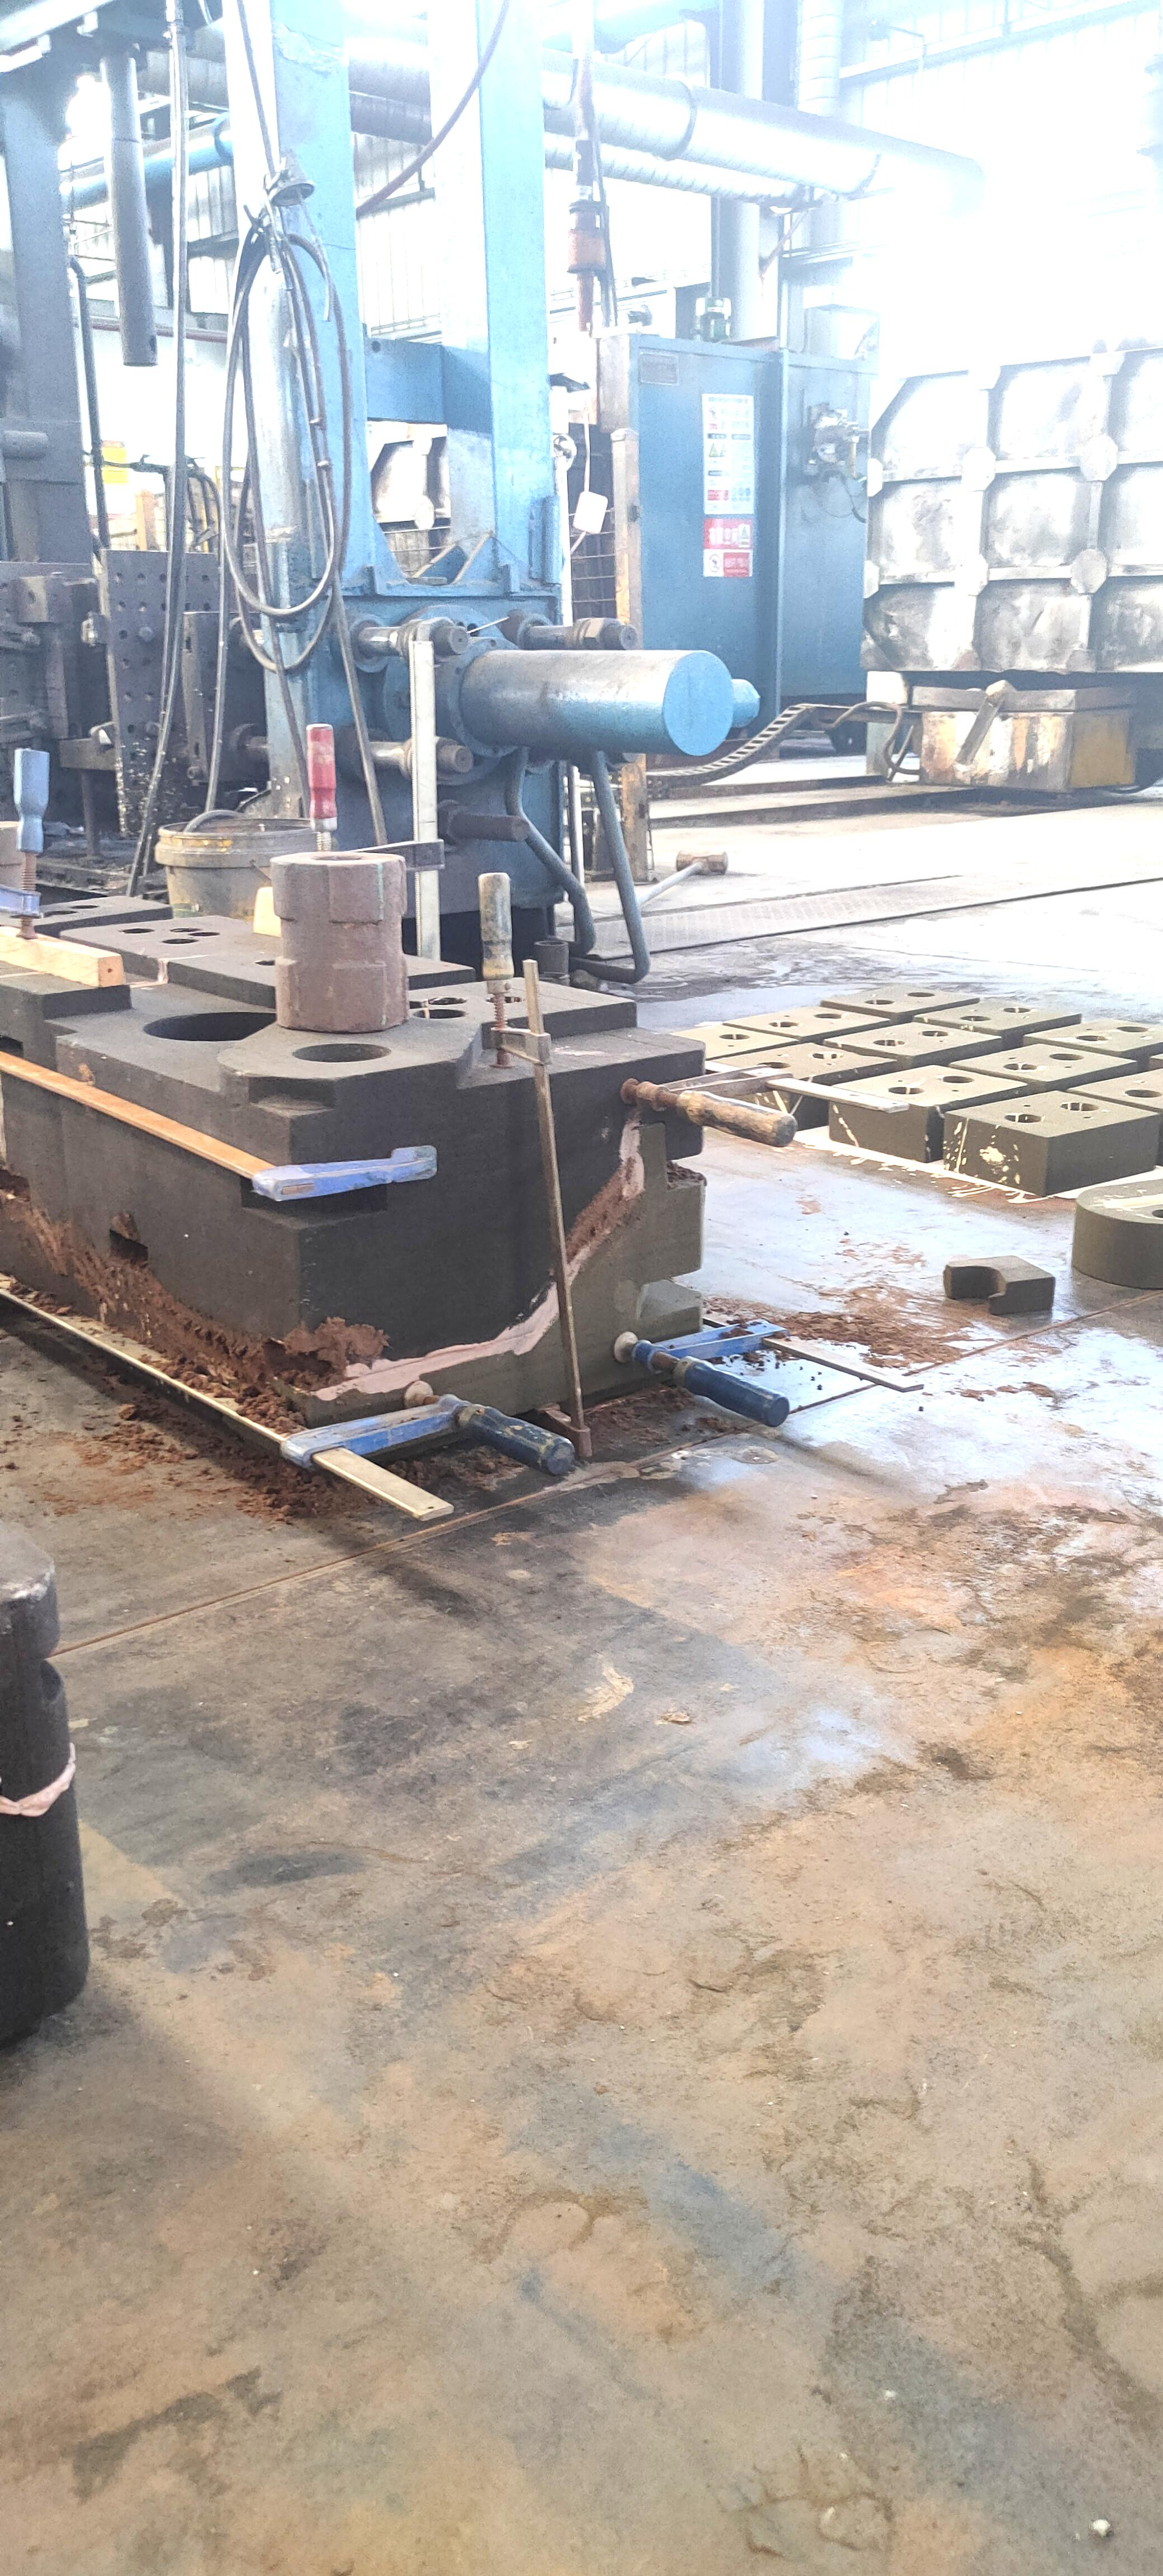pouring hole: (289, 1043, 394, 1063), (1061, 1101, 1101, 1112), (1004, 1112, 1045, 1122), (1125, 1088, 1163, 1097), (1002, 1061, 1038, 1071), (935, 1074, 976, 1083), (872, 1038, 907, 1046), (890, 1086, 925, 1094), (1050, 1053, 1084, 1061), (1115, 1025, 1150, 1033), (767, 1020, 800, 1028), (958, 1014, 991, 1022), (1000, 1005, 1032, 1014), (1078, 1035, 1109, 1043), (721, 1033, 751, 1042), (866, 997, 895, 1005), (907, 991, 935, 999), (670, 1043, 705, 1050), (757, 1061, 792, 1068), (918, 1030, 951, 1037), (810, 1053, 844, 1058), (815, 1014, 844, 1019)
